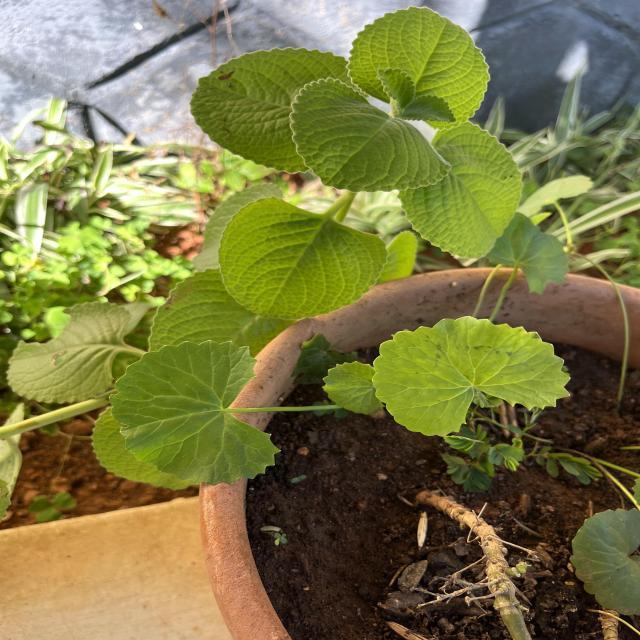Centella asiatica: (107, 337, 284, 488), (370, 312, 576, 439)
